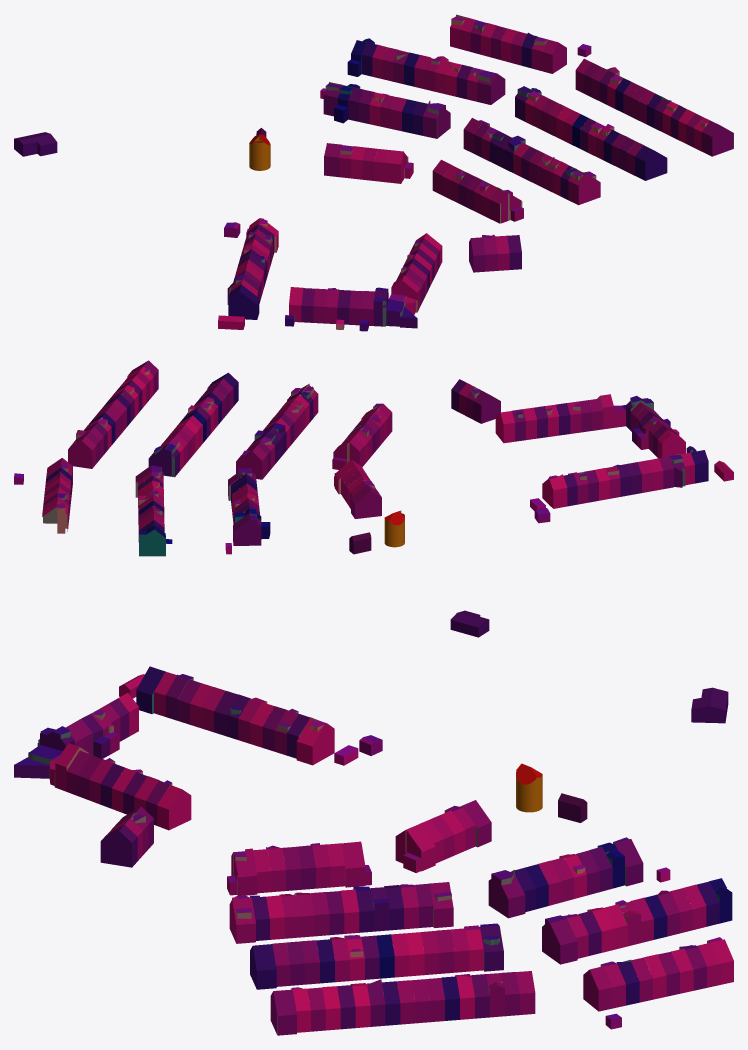
Rendered from buildings_6_5.glb.
3 renders of one model, top to bottom at view 1: azimuth 30°, elevation 25°; view 2: azimuth 150°, elevation 25°; view 3: azimuth 270°, elevation 25°, orthographic. The views are drawn at different scales.
Parts seen in each view (by area): view 1: buildings_6_5; view 2: buildings_6_5; view 3: buildings_6_5.
Boxes of the visible parts, <box> form: buildings_6_5: <box>14,14,733,331</box>; buildings_6_5: <box>14,360,733,637</box>; buildings_6_5: <box>14,666,733,1035</box>.
Bounding box in the file's own units: 207 × 11.33 × 180.
